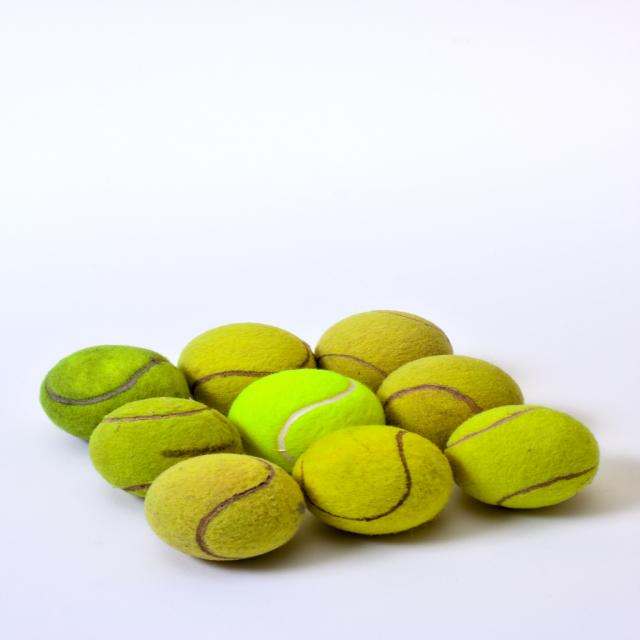Tennis ball: (40, 305, 600, 567), (446, 406, 598, 516)
